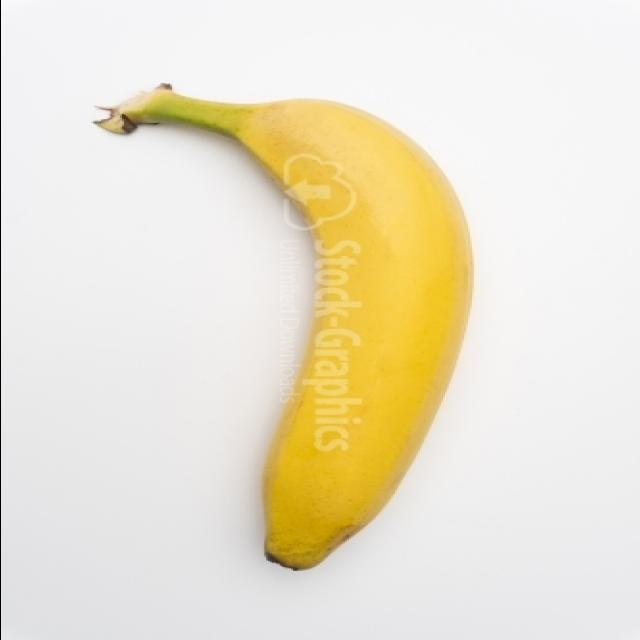agrume: (104, 77, 480, 575)
